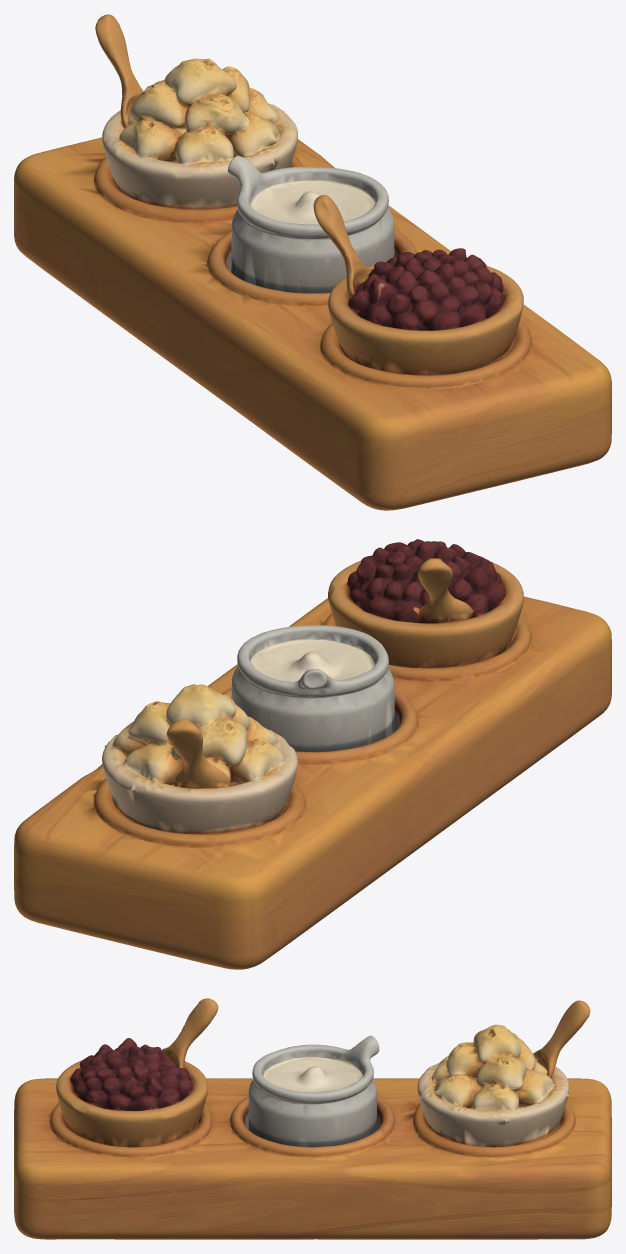
Rendered from KR_사물_s1_station_topping_t1_old.glb.
3 views of the same model, one above another, from view 1: azimuth 30°, elevation 25°; view 2: azimuth 150°, elevation 25°; view 3: azimuth 270°, elevation 25° (orthographic). The views are drawn at different scales.
Parts seen in each view (by area): view 1: tripo_node_9b4cbc71-92ea-44b4-8cbd-88d1d87b4bec; view 2: tripo_node_9b4cbc71-92ea-44b4-8cbd-88d1d87b4bec; view 3: tripo_node_9b4cbc71-92ea-44b4-8cbd-88d1d87b4bec.
Part boxes in pixels (x1=…): tripo_node_9b4cbc71-92ea-44b4-8cbd-88d1d87b4bec: x1=14, y1=14, x2=611, y2=510; tripo_node_9b4cbc71-92ea-44b4-8cbd-88d1d87b4bec: x1=14, y1=539, x2=611, y2=969; tripo_node_9b4cbc71-92ea-44b4-8cbd-88d1d87b4bec: x1=14, y1=998, x2=611, y2=1239.
Size of the model in its own units: 0.3845 by 0.3321 by 1.
1 material, 1 textured.
